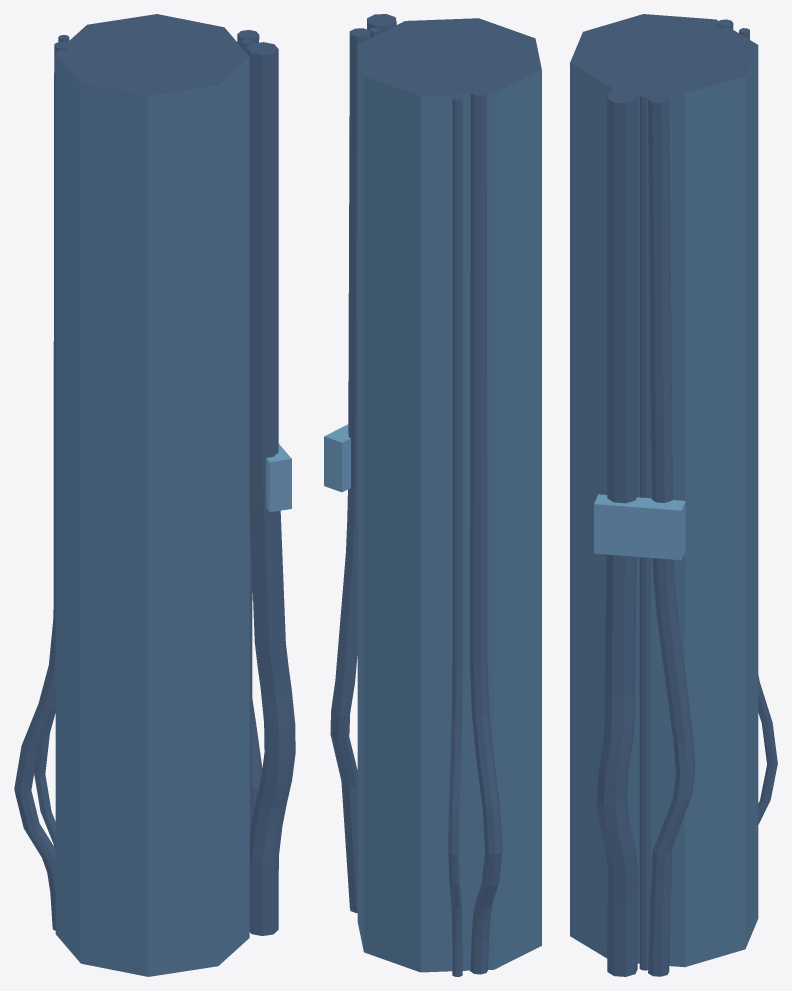
File: pillar-wires.glb
3 renders of one model, left to right at view 1: azimuth 30°, elevation 25°; view 2: azimuth 150°, elevation 25°; view 3: azimuth 270°, elevation 25°, orthographic.
Parts seen in each view (by area): view 1: pillar-wires; view 2: pillar-wires; view 3: pillar-wires.
Part boxes in pixels (<box>): pillar-wires: <box>14,14,295,976</box>; pillar-wires: <box>324,14,541,976</box>; pillar-wires: <box>570,14,777,976</box>.
Bounding box in the file's own units: 1.89 × 7.52 × 1.62.
1 material, 1 textured.
